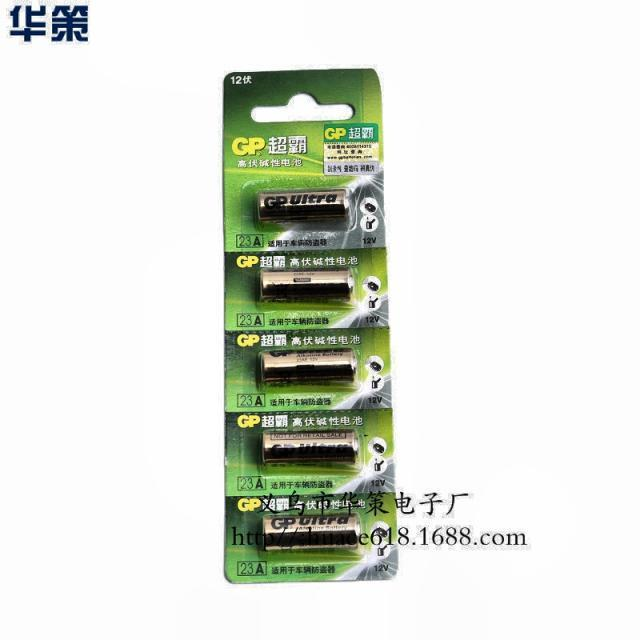battery: (262, 514, 360, 549), (262, 430, 358, 462), (261, 351, 356, 382), (258, 189, 346, 221), (261, 271, 352, 300)
